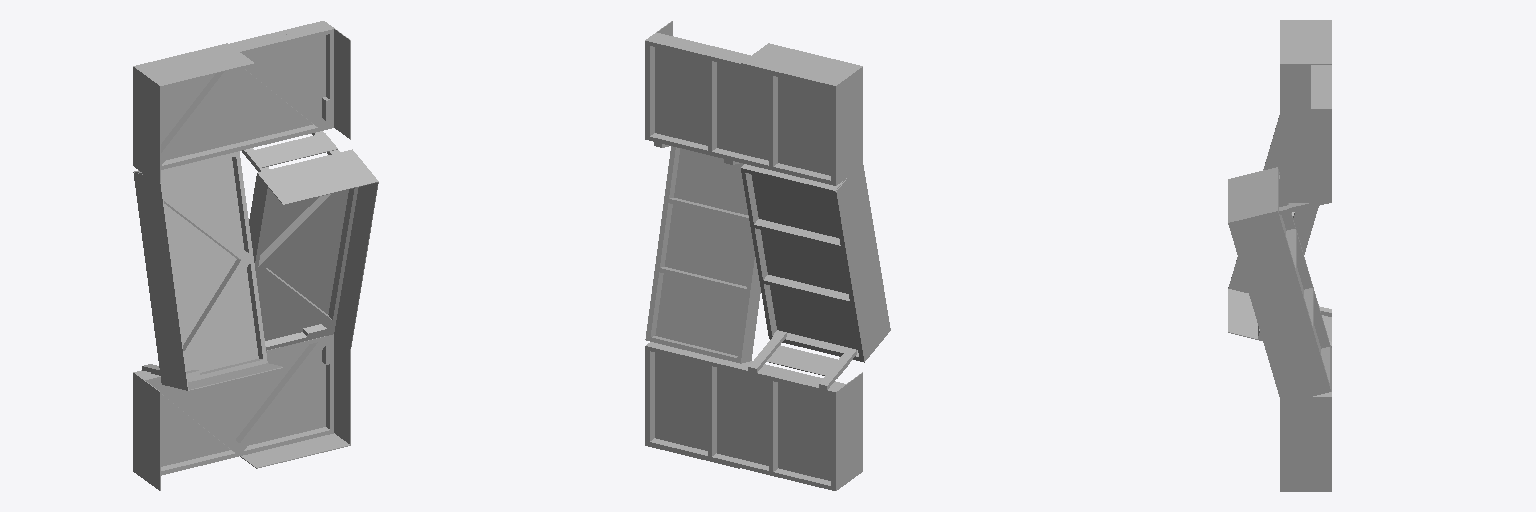
robot.urdf — 2_Sloped_KRails:
<?xml version="1.0" encoding="utf-8"?>
<!-- This URDF was automatically created by SolidWorks to URDF Exporter! Originally created by Stephen Brawner (brawner@gmail.com) 
     Commit Version: 1.6.0-4-g7f85cfe  Build Version: 1.6.7995.38578
     For more information, please see http://wiki.ros.org/sw_urdf_exporter -->
<robot
  name="2_Sloped_KRails">
  <link
    name="base_link">
    <inertial>
      <origin
        xyz="1.4821 0.64335 0.30732"
        rpy="0 0 0" />
      <mass
        value="1003.3" />
      <inertia
        ixx="231.93"
        ixy="6.772E-14"
        ixz="3.5436E-13"
        iyy="231.61"
        iyz="3.3462E-15"
        izz="431.82" />
    </inertial>
    <visual>
      <origin
        xyz="0 0 0"
        rpy="0 0 0" />
      <geometry>
        <mesh
          filename="package://2_Sloped_KRails/meshes/base_link.STL" />
      </geometry>
      <material
        name="">
        <color
          rgba="0.75294 0.75294 0.75294 1" />
      </material>
    </visual>
    <collision>
      <origin
        xyz="0 0 0"
        rpy="0 0 0" />
      <geometry>
        <mesh
          filename="package://2_Sloped_KRails/meshes/base_link.STL" />
      </geometry>
    </collision>
  </link>
</robot>

--- Render facts (derived) ---
Views: 3 orthographic renders of the robot side by side, from view 1: azimuth 30°, elevation 25°; view 2: azimuth 150°, elevation 25°; view 3: azimuth 270°, elevation 25°.
Model 2_Sloped_KRails with 1 links and 0 joints (none), rooted at base_link, posed every joint at zero.
Visible links, largest first — view 1: base_link; view 2: base_link; view 3: base_link.
Boxes of the visible links, <box> form: base_link: <box>133,21,378,490</box>; base_link: <box>645,21,890,490</box>; base_link: <box>1228,20,1331,491</box>.
Size in the robot's own frame: 2.42 by 1.21 by 4.92 metres.
1 mesh visuals loaded from 1 distinct referenced files (1 binary STL).
